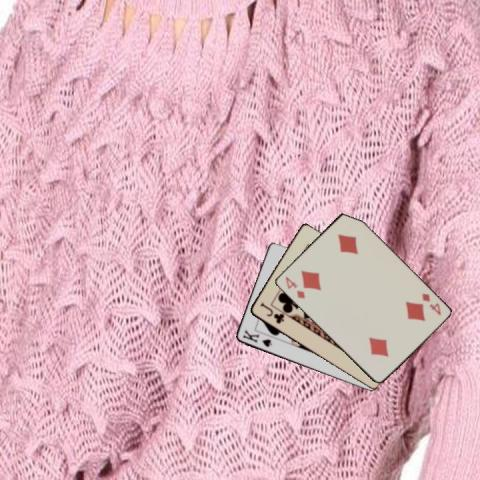4d: (282, 273, 306, 300), (418, 290, 442, 317)
Jc: (257, 300, 285, 325)
Ks: (240, 326, 274, 348)
